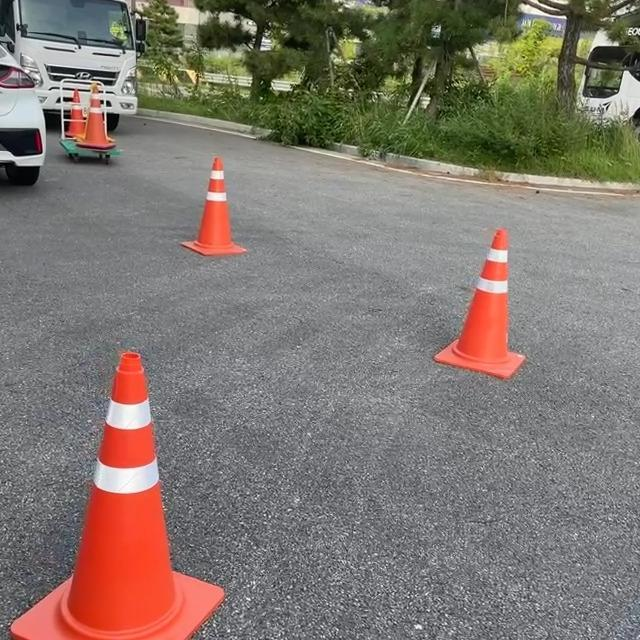fallen_object: (10, 336, 248, 640), (393, 206, 564, 396), (147, 149, 269, 267), (40, 65, 126, 182)
